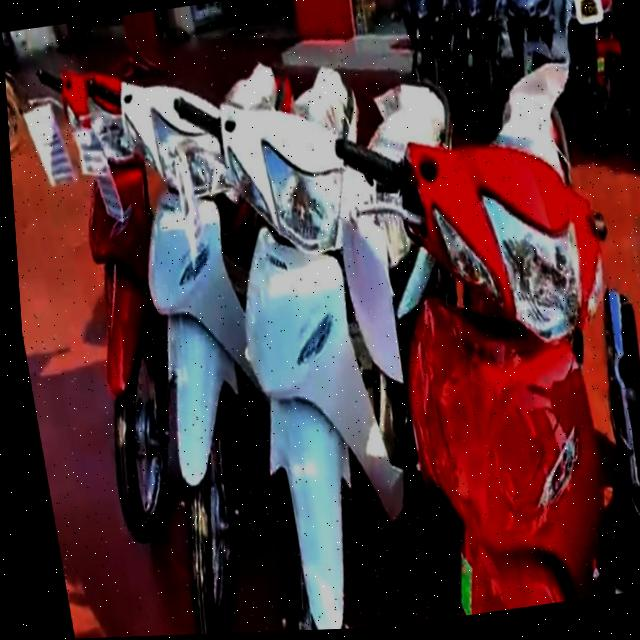motorcycle: (356, 99, 640, 620), (203, 71, 426, 633), (99, 68, 290, 637), (15, 48, 177, 557)
plate: (561, 0, 611, 25)
